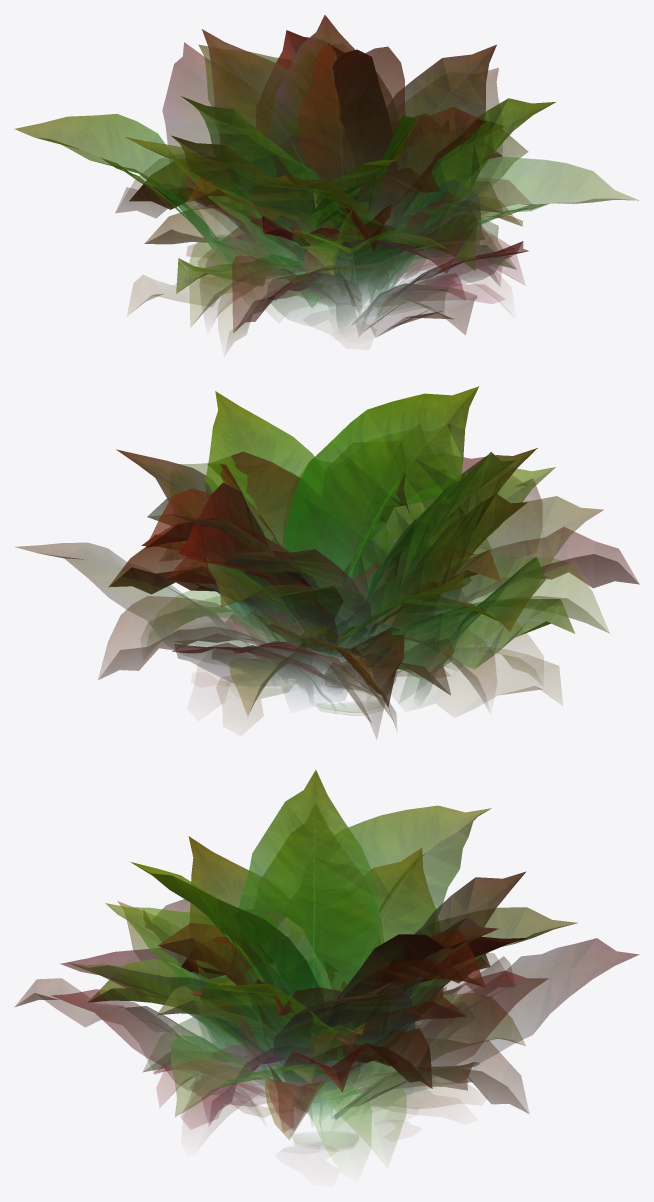
The model's file is wdvlditia_tier_2.gltf.
3 views of the same model, one above another, from view 1: azimuth 30°, elevation 25°; view 2: azimuth 150°, elevation 25°; view 3: azimuth 270°, elevation 25° (orthographic). The views are drawn at different scales.
Visible parts, largest first — view 1: SM_wdvlditia_VarA, SM_wdvlditia_VarE, SM_wdvlditia_VarF, SM_wdvlditia_VarH, SM_wdvlditia_VarG, SM_wdvlditia_VarD, SM_wdvlditia_VarC, SM_wdvlditia_VarI, SM_wdvlditia_VarB; view 2: SM_wdvlditia_VarA, SM_wdvlditia_VarE, SM_wdvlditia_VarF, SM_wdvlditia_VarH, SM_wdvlditia_VarG, SM_wdvlditia_VarC, SM_wdvlditia_VarI, SM_wdvlditia_VarD, SM_wdvlditia_VarB; view 3: SM_wdvlditia_VarA, SM_wdvlditia_VarE, SM_wdvlditia_VarF, SM_wdvlditia_VarH, SM_wdvlditia_VarG, SM_wdvlditia_VarI, SM_wdvlditia_VarD, SM_wdvlditia_VarB.
Part boxes in pixels (bbox=[...]): SM_wdvlditia_VarA: bbox=[14, 42, 638, 327]; SM_wdvlditia_VarE: bbox=[127, 29, 532, 337]; SM_wdvlditia_VarF: bbox=[186, 15, 555, 291]; SM_wdvlditia_VarH: bbox=[125, 30, 501, 352]; SM_wdvlditia_VarG: bbox=[144, 114, 522, 323]; SM_wdvlditia_VarD: bbox=[388, 44, 496, 217]; SM_wdvlditia_VarC: bbox=[129, 157, 326, 307]; SM_wdvlditia_VarI: bbox=[281, 151, 502, 247]; SM_wdvlditia_VarB: bbox=[198, 216, 360, 306]; SM_wdvlditia_VarA: bbox=[15, 441, 609, 738]; SM_wdvlditia_VarE: bbox=[98, 386, 639, 713]; SM_wdvlditia_VarF: bbox=[147, 391, 537, 715]; SM_wdvlditia_VarH: bbox=[144, 455, 543, 677]; SM_wdvlditia_VarG: bbox=[109, 469, 496, 722]; SM_wdvlditia_VarC: bbox=[296, 599, 575, 707]; SM_wdvlditia_VarI: bbox=[141, 497, 466, 715]; SM_wdvlditia_VarD: bbox=[116, 449, 269, 633]; SM_wdvlditia_VarB: bbox=[254, 582, 436, 729]; SM_wdvlditia_VarA: bbox=[67, 770, 639, 1119]; SM_wdvlditia_VarE: bbox=[15, 831, 528, 1146]; SM_wdvlditia_VarF: bbox=[156, 836, 548, 1155]; SM_wdvlditia_VarH: bbox=[60, 847, 527, 1150]; SM_wdvlditia_VarG: bbox=[88, 937, 471, 1139]; SM_wdvlditia_VarI: bbox=[218, 909, 525, 1111]; SM_wdvlditia_VarD: bbox=[273, 982, 415, 1066]; SM_wdvlditia_VarB: bbox=[264, 978, 407, 1131].
Size of what is drawn, in the model's own units: 1.89 by 1.01 by 2.12.
Materials: 1 (1 with a texture image).
